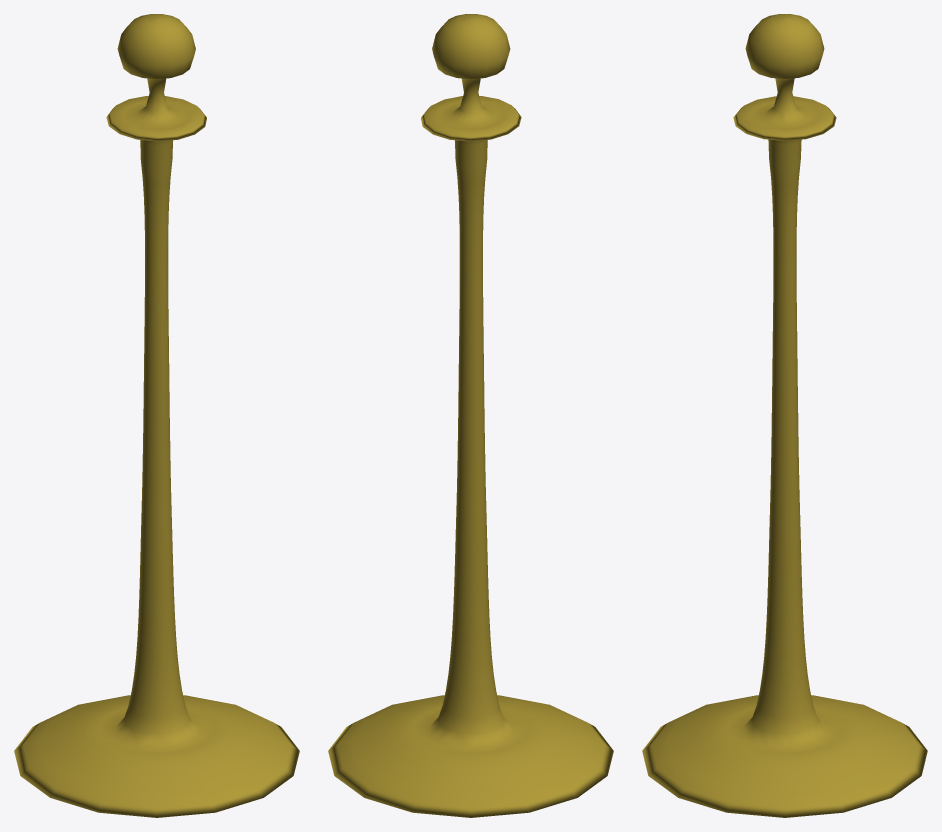
Rendered from Pole.fbx.
The picture shows the model from 3 angles, left to right: view 1: azimuth 30°, elevation 25°; view 2: azimuth 150°, elevation 25°; view 3: azimuth 270°, elevation 25°; orthographic projection.
Visible parts, largest first — view 1: revolvedSurface2; view 2: revolvedSurface2; view 3: revolvedSurface2.
Part boxes in pixels (x1,y1,x2,y2): revolvedSurface2: (14, 14, 299, 817); revolvedSurface2: (328, 14, 613, 817); revolvedSurface2: (642, 14, 927, 817).
Bounding box in the file's own units: 3.34 × 9.6 × 3.36.
